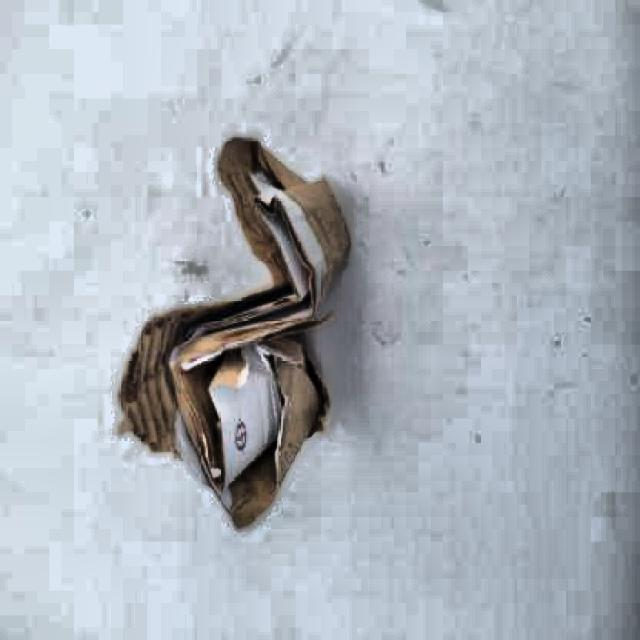Cardbox: (94, 136, 396, 544)
